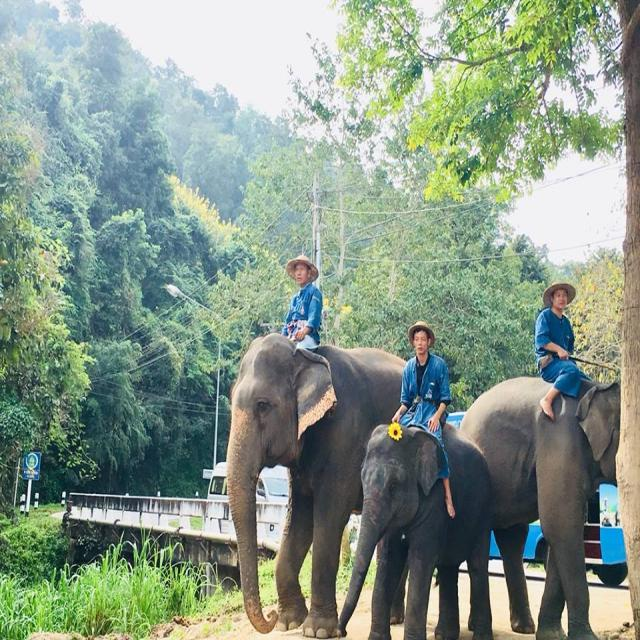Elephant: (219, 322, 418, 640), (467, 372, 631, 640), (332, 404, 491, 639)
